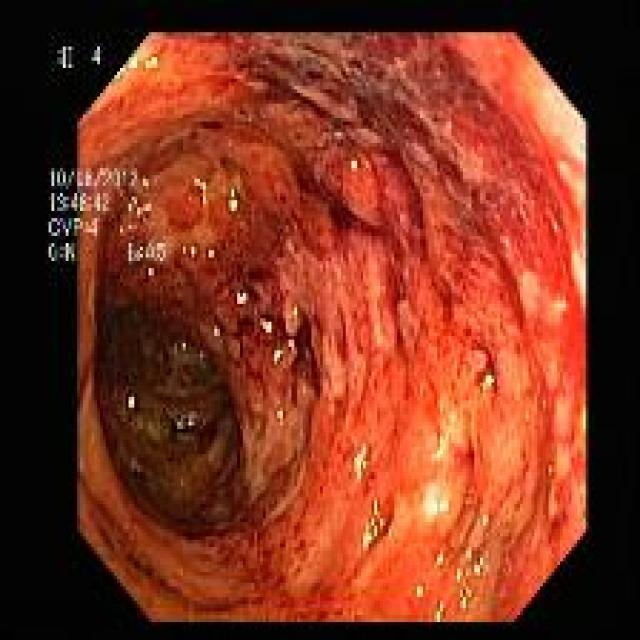ulcerative-colitis: (70, 33, 585, 622)
